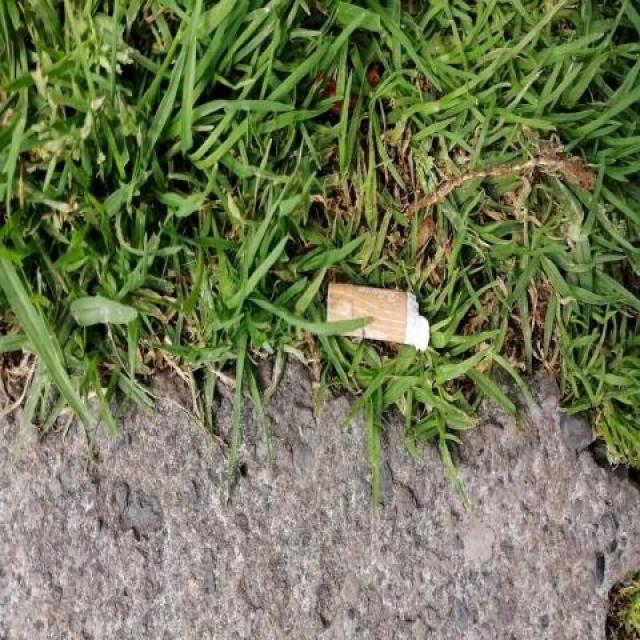non-organic waste: (315, 278, 433, 358)
